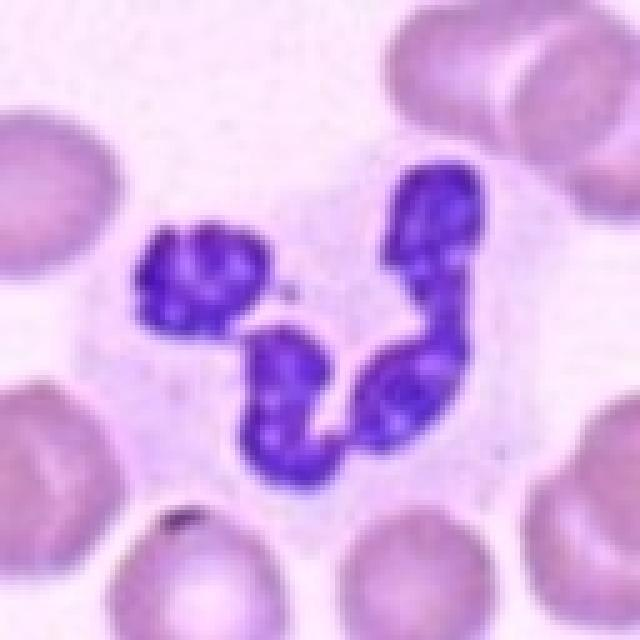neutro: (95, 121, 572, 538)
